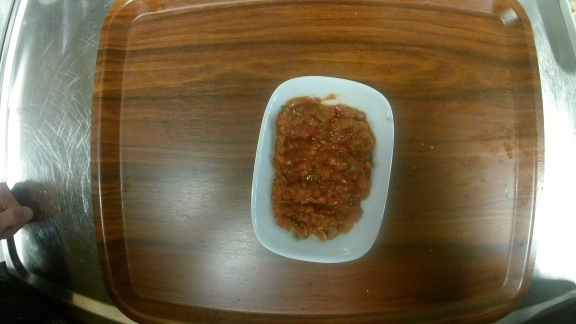acilimeze: (251, 76, 396, 263)
